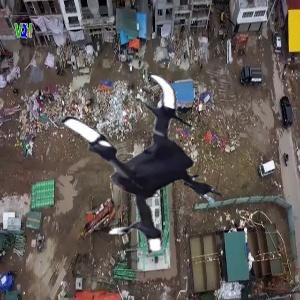drone: (48, 71, 248, 271)
